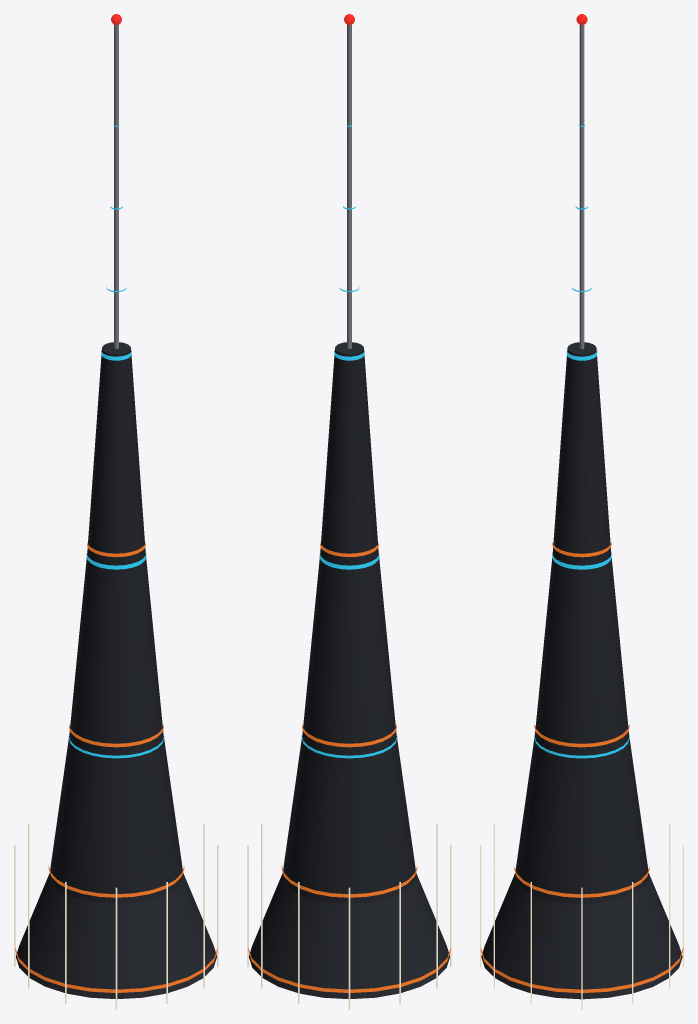
The model's file is setpiece_spire.glb.
The picture shows the model from 3 angles, left to right: view 1: azimuth 30°, elevation 25°; view 2: azimuth 150°, elevation 25°; view 3: azimuth 270°, elevation 25°; orthographic projection.
Parts seen in each view (by area): view 1: Spire; view 2: Spire; view 3: Spire.
Boxes of the visible parts, bbox=[...] form: Spire: bbox=[14, 14, 218, 1009]; Spire: bbox=[247, 14, 451, 1009]; Spire: bbox=[480, 14, 683, 1009].
Size of the model in its own units: 18.22 by 93.9 by 18.22.
